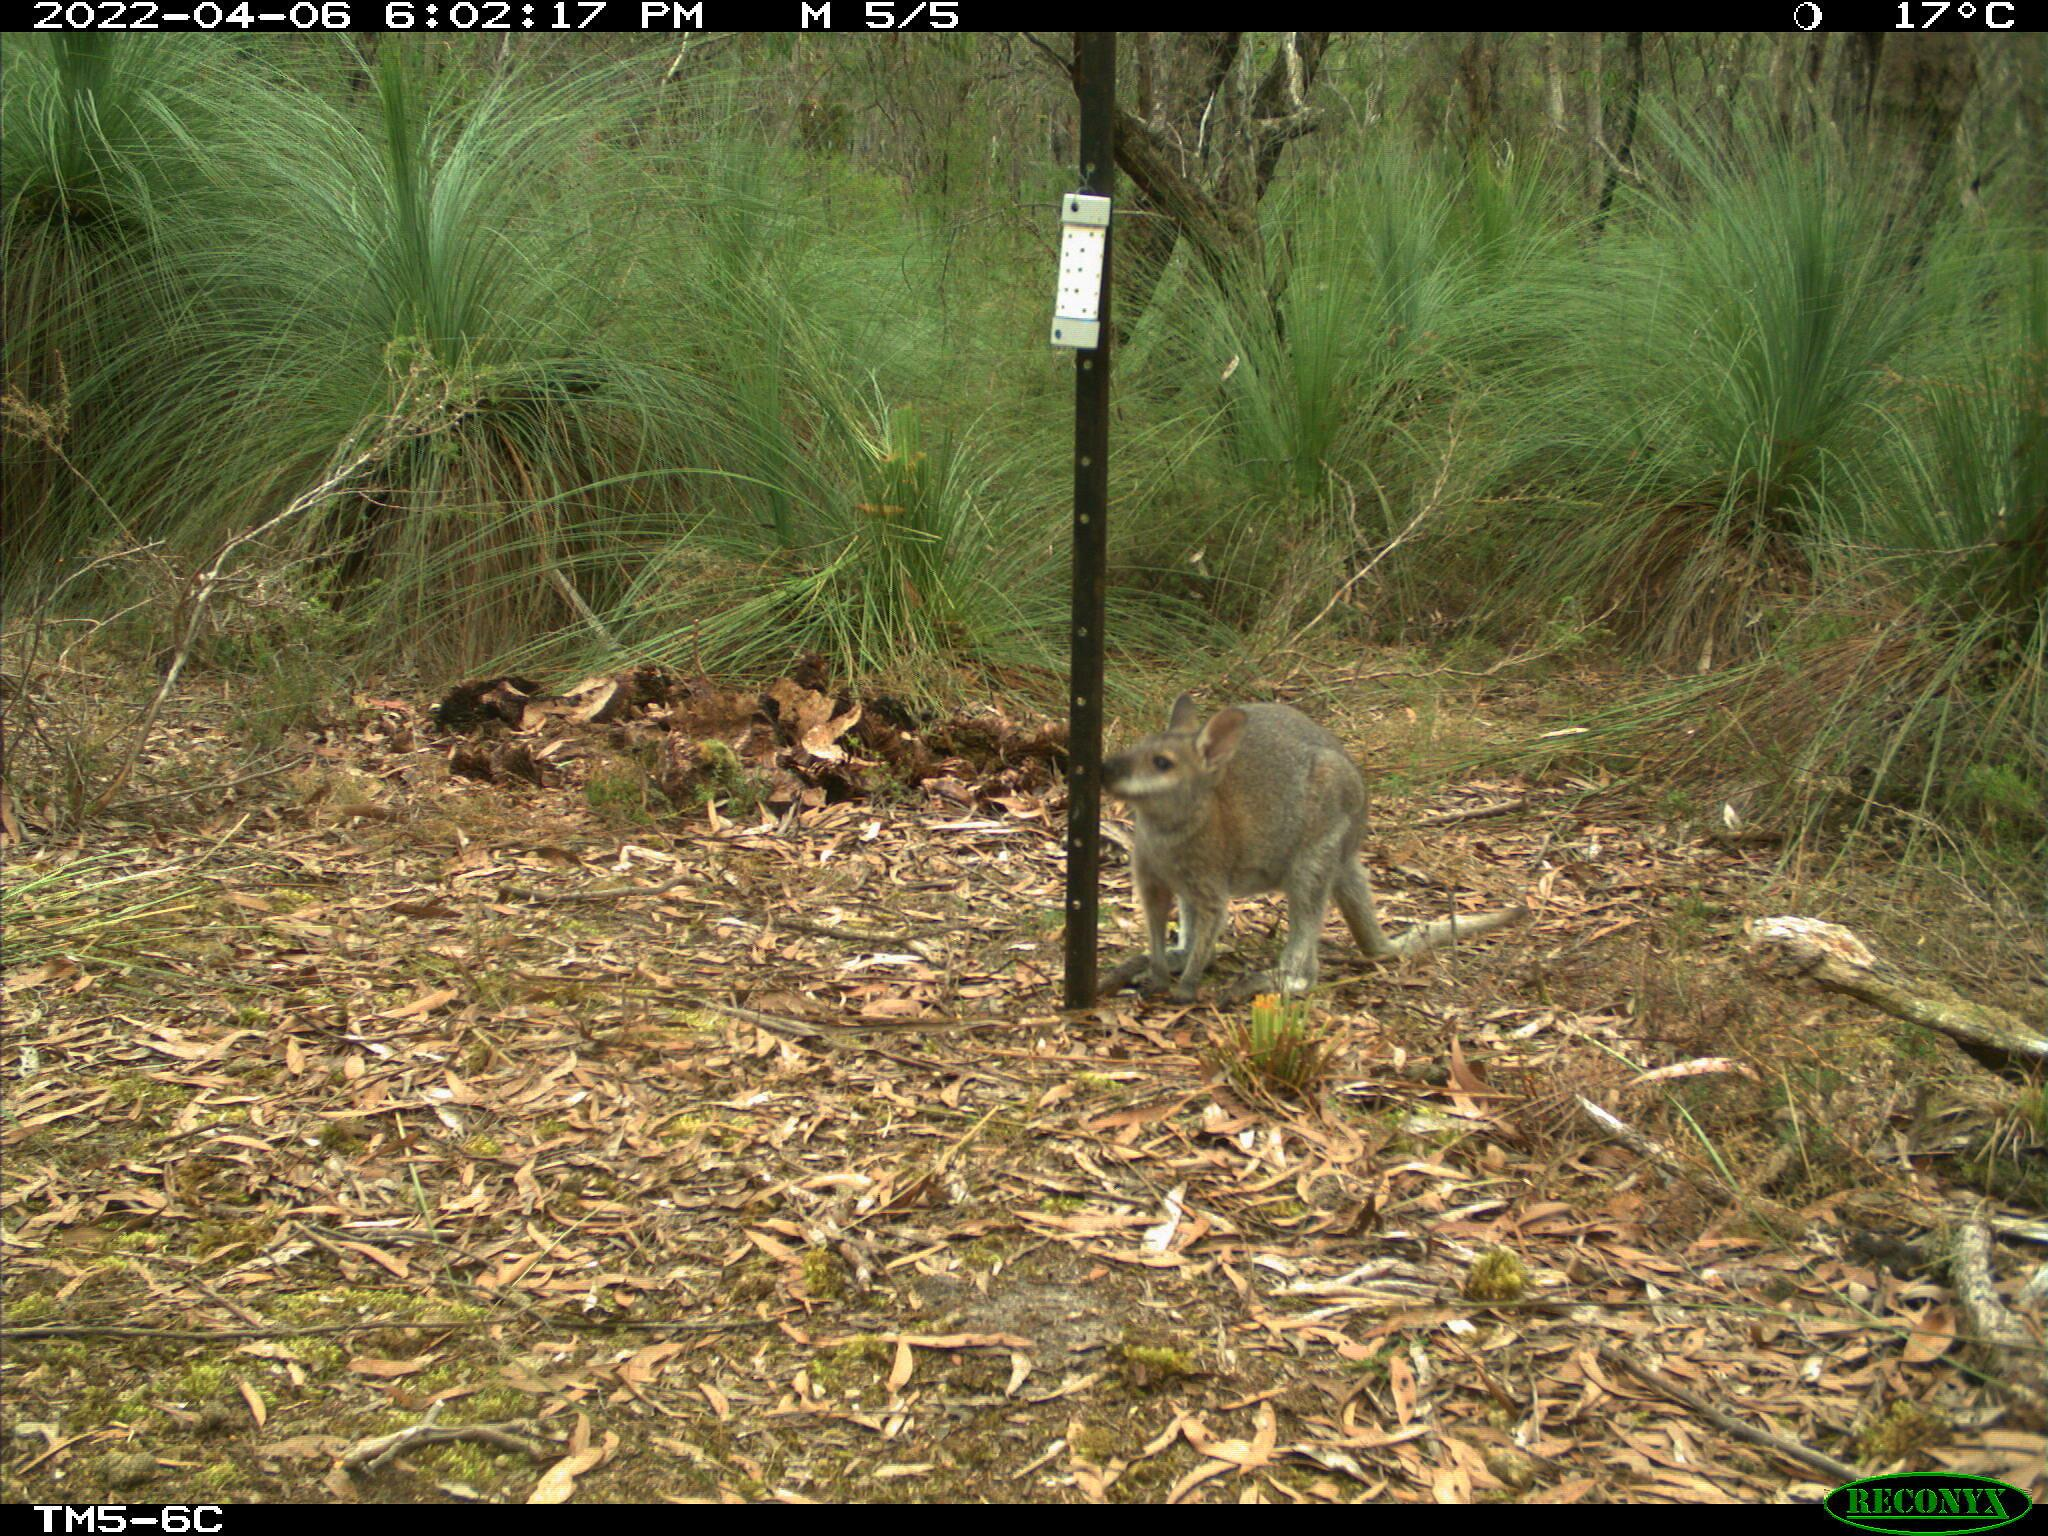Red-necked wallaby: (1064, 697, 1472, 1010)
